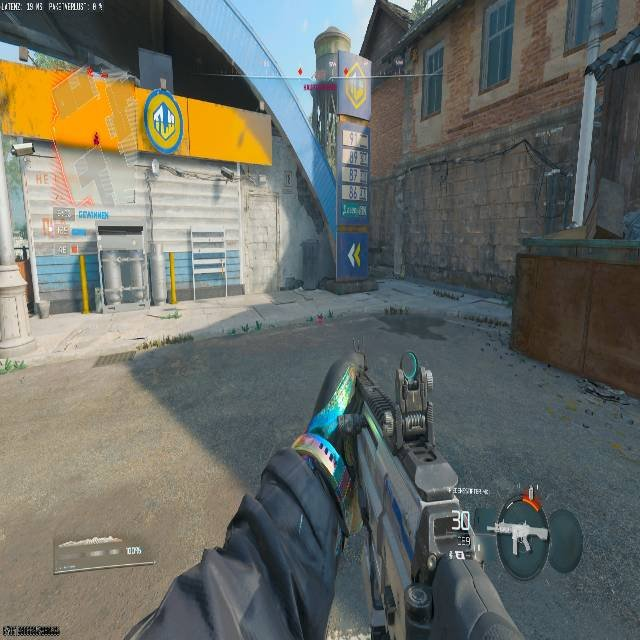player: (92, 132, 100, 148)
